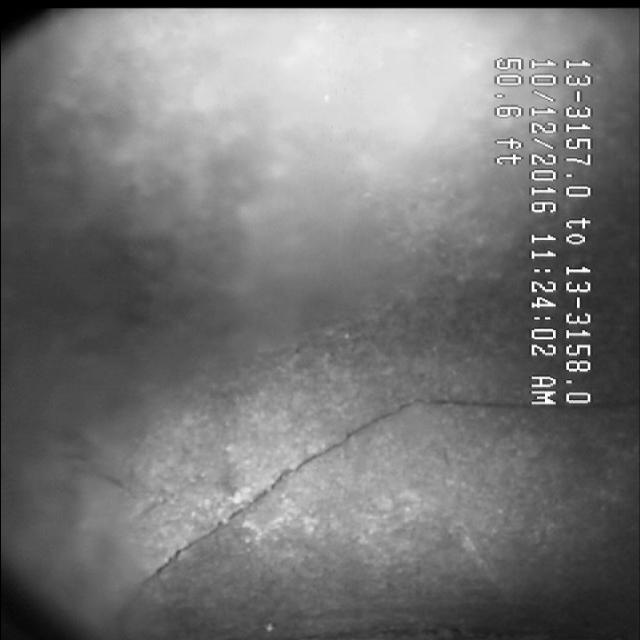Crack: (142, 399, 444, 605)
